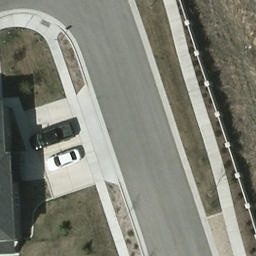car: (43, 148, 84, 172)
pickup: (27, 124, 76, 152)
